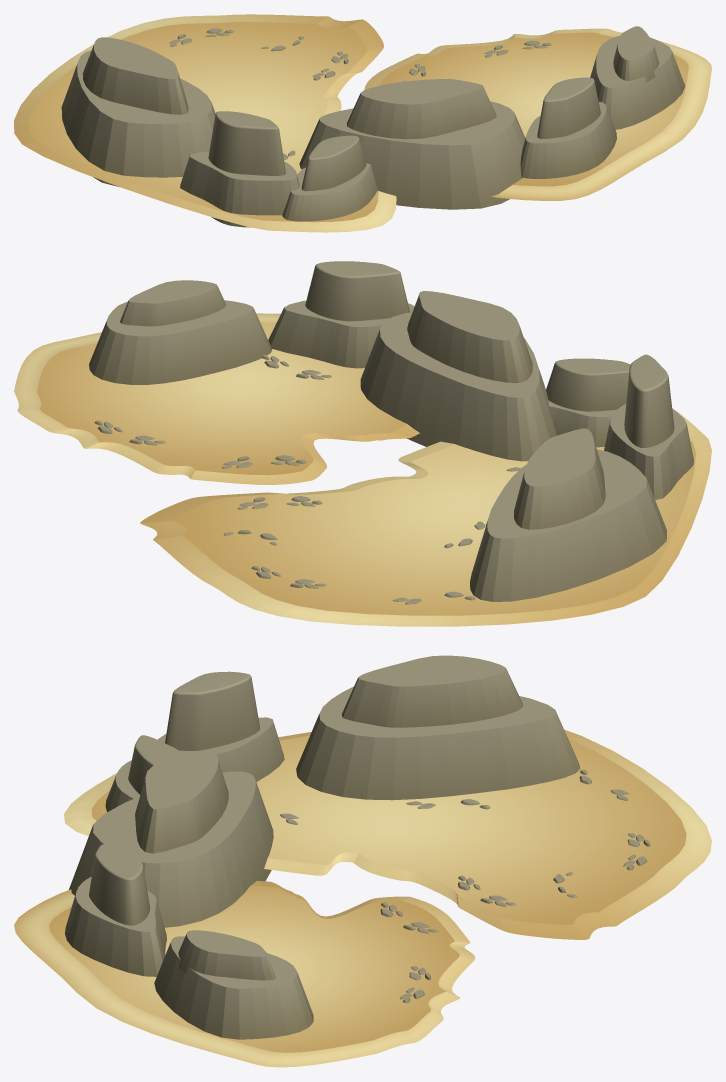
Rendered from World_1.FBX.
3 views of the same model, one above another, from view 1: azimuth 30°, elevation 25°; view 2: azimuth 150°, elevation 25°; view 3: azimuth 270°, elevation 25° (orthographic). The views are drawn at different scales.
Visible parts, largest first — view 1: World_1, Line001; view 2: Line001, World_1; view 3: Line001, World_1.
Part boxes in pixels (left/top/right/bottom): World_1: left=61, top=26, right=685, bottom=227; Line001: left=14, top=14, right=711, bottom=232; Line001: left=14, top=313, right=711, bottom=626; World_1: left=89, top=261, right=693, bottom=604; Line001: left=14, top=729, right=711, bottom=1067; World_1: left=65, top=655, right=650, bottom=1039.
Size of the model in its own units: 73.67 by 10.44 by 61.31.
Materials: 1 (1 with a texture image).
